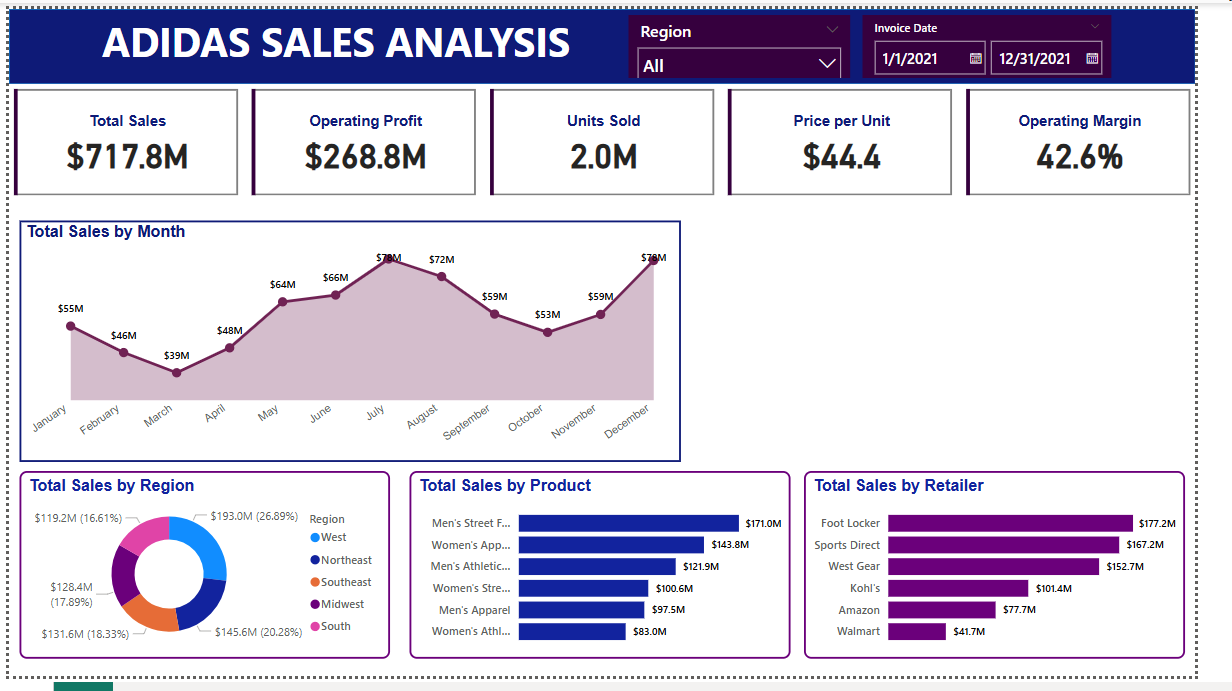

Layout of this report page (visuals, bound fields, positions):
{"tool":"powerbi","page":{"name":"Page 1","canvas":[1280,720],"ordinal":0},"visuals":[{"type":"shape","box":[0,0,1280.8,81],"z":0},{"type":"textbox","box":[85.8,0,534.3,81],"z":1000},{"type":"cardVisual","fields":{"Data":["Sum(Data Sales Adidas.Total Sales)","Sum(Data Sales Adidas.Operating Profit)","Sum(Data Sales Adidas.Units Sold)","Avg(Data Sales Adidas.Price per Unit)","Avg(Data Sales Adidas.Operating Margin)"]},"box":[0,81,1280.8,125],"z":2000},{"type":"areaChart","title":"Total Sales by Month","fields":{"Category":["Data Sales Adidas.Invoice Date.Variation.Date Hierarchy.Month"],"Y":["Sum(Data Sales Adidas.Total Sales)"]},"box":[11.3,228.3,714.1,260.7],"z":3000},{"type":"donutChart","title":"Total Sales by Region","fields":{"Category":["Data Sales Adidas.Region"],"Y":["Sum(Data Sales Adidas.Total Sales)"]},"box":[11.3,498.7,400,202.4],"z":5000},{"type":"barChart","title":"Total Sales by Product","fields":{"Category":["Data Sales Adidas.Product"],"Y":["Sum(Data Sales Adidas.Total Sales)"]},"box":[432.3,498.7,411.3,202.4],"z":5001},{"type":"barChart","title":"Total Sales by Retailer","fields":{"Y":["Sum(Data Sales Adidas.Total Sales)"],"Category":["Data Sales Adidas.Retailer"]},"box":[858.2,498.7,411.3,202.4],"z":5002},{"type":"slicer","fields":{"Values":["Data Sales Adidas.Region"]},"box":[668.7,6.5,239.6,68],"z":5003},{"type":"slicer","fields":{"Values":["Data Sales Adidas.Invoice Date"]},"box":[921.3,6.5,268.8,68],"z":5004}]}

Visuals, with their boxes in screenshot pixels (x1, y1, x2, y2), scaled from the page's 1280x720 canvas onto the 1232x691 screenshot:
shape: box(0, 0, 1231, 78)
textbox: box(83, 0, 597, 78)
cardVisual - Sum(Data Sales Adidas.Total Sales) x Sum(Data Sales Adidas.Operating Profit): box(0, 78, 1231, 198)
"Total Sales by Month" areaChart: box(11, 219, 698, 469)
"Total Sales by Region" donutChart: box(11, 479, 396, 673)
"Total Sales by Product" barChart: box(416, 479, 812, 673)
"Total Sales by Retailer" barChart: box(826, 479, 1222, 673)
slicer - Data Sales Adidas.Region: box(644, 6, 874, 71)
slicer - Data Sales Adidas.Invoice Date: box(887, 6, 1145, 71)
